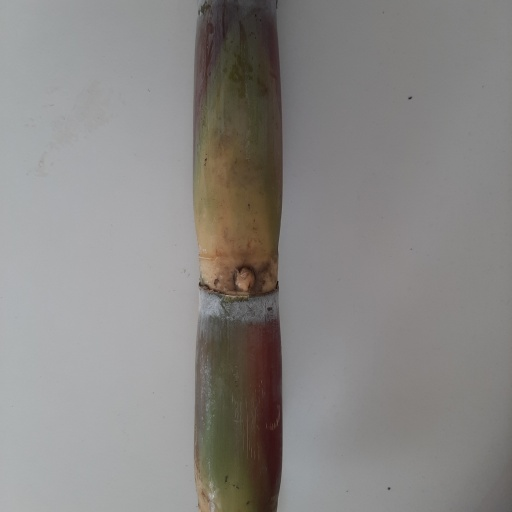Bud: (234, 265, 257, 294)
